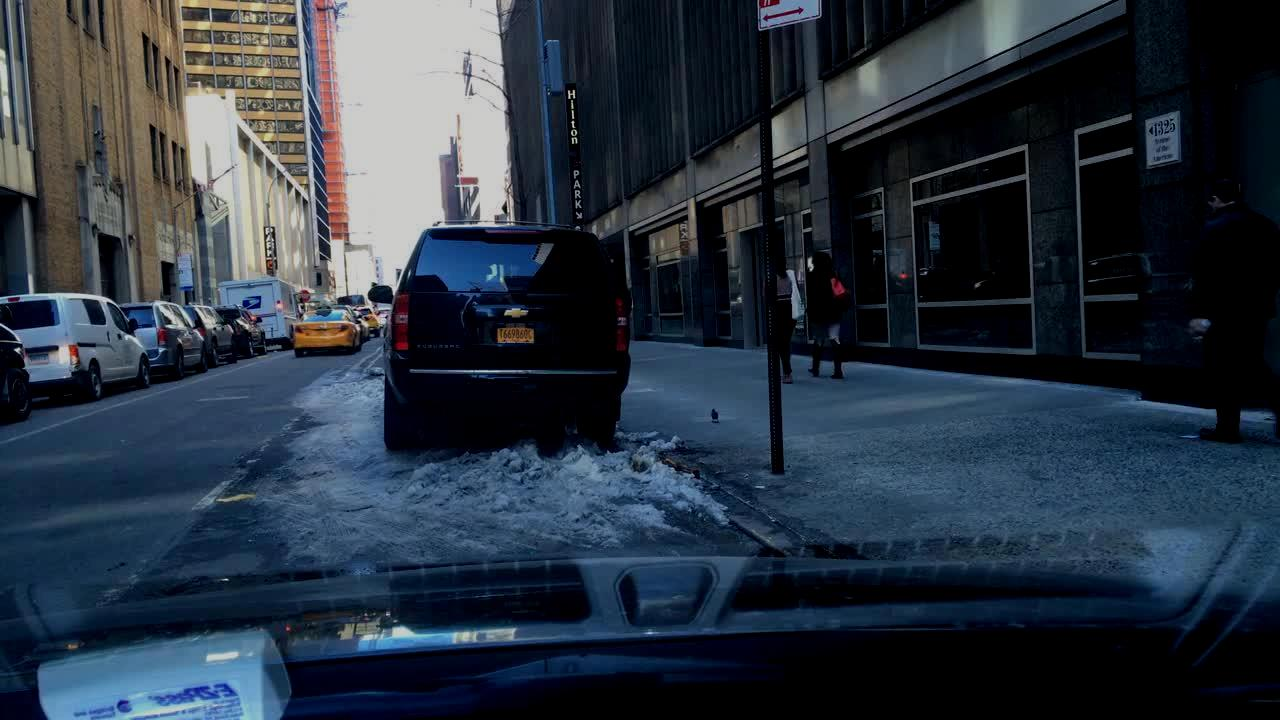chevrolet: (504, 303, 535, 323)
